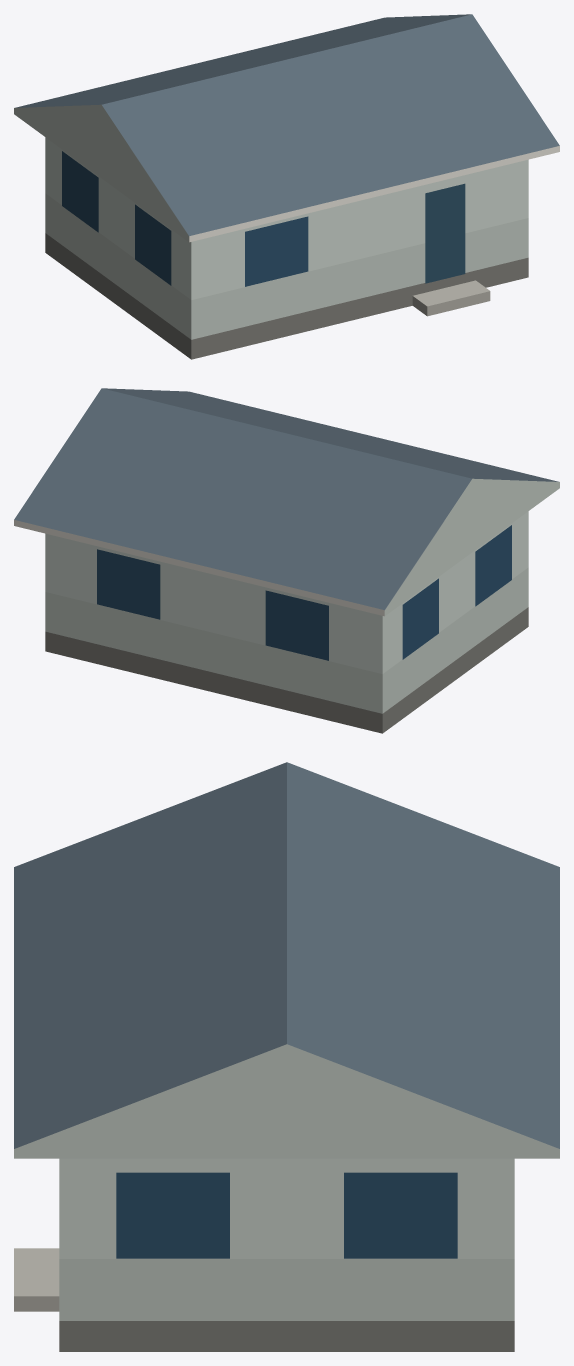
The model's file is house_8x6_lod1.glb.
3 views of the same model, one above another, from view 1: azimuth 30°, elevation 25°; view 2: azimuth 150°, elevation 25°; view 3: azimuth 270°, elevation 25° (orthographic). The views are drawn at different scales.
Visible parts, largest first — view 1: house; view 2: house; view 3: house.
Boxes of the visible parts, x1,y1,x2,y2 form: house: (14, 14, 559, 359); house: (14, 388, 559, 733); house: (14, 762, 559, 1351).
Size of the model in its own units: 8.8 by 4.66 by 7.2.
